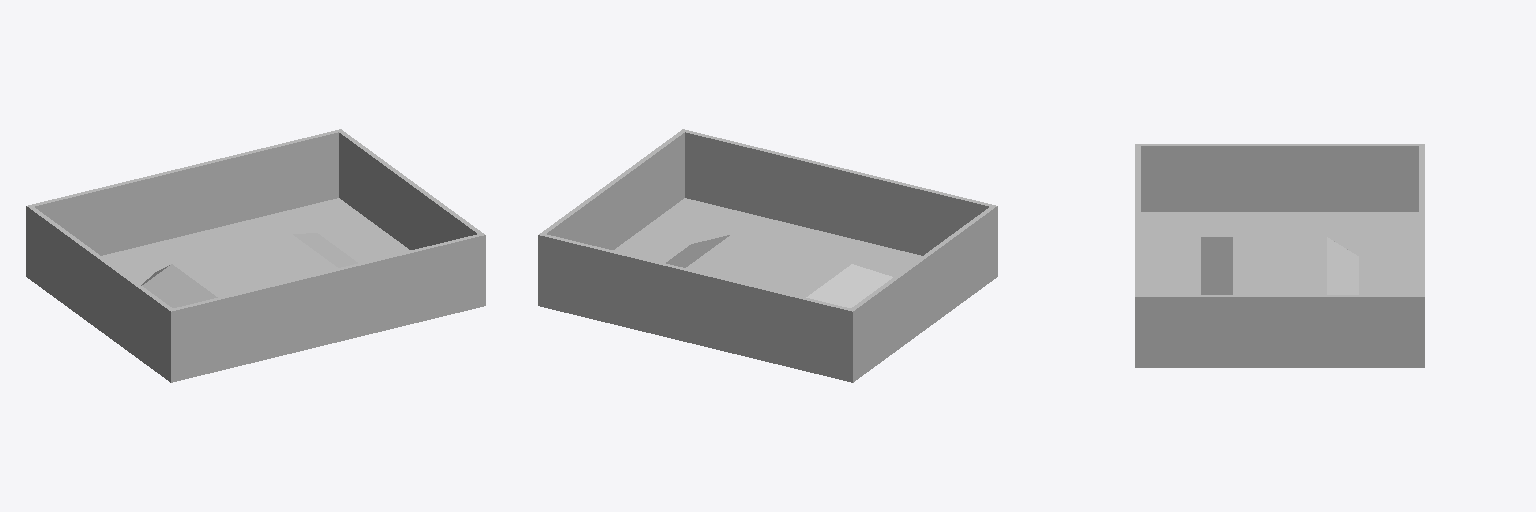
File: map.obj
3 renders of one model, left to right at view 1: azimuth 30°, elevation 25°; view 2: azimuth 150°, elevation 25°; view 3: azimuth 270°, elevation 25°, orthographic.
Parts seen in each view (by area): view 1: Cube; view 2: Cube; view 3: Cube.
Boxes of the visible parts, x1=… form: Cube: x1=26, y1=129, x2=485, y2=382; Cube: x1=538, y1=129, x2=997, y2=382; Cube: x1=1135, y1=144, x2=1424, y2=367.
Bounding box in the file's own units: 66.59 × 14.39 × 53.02.